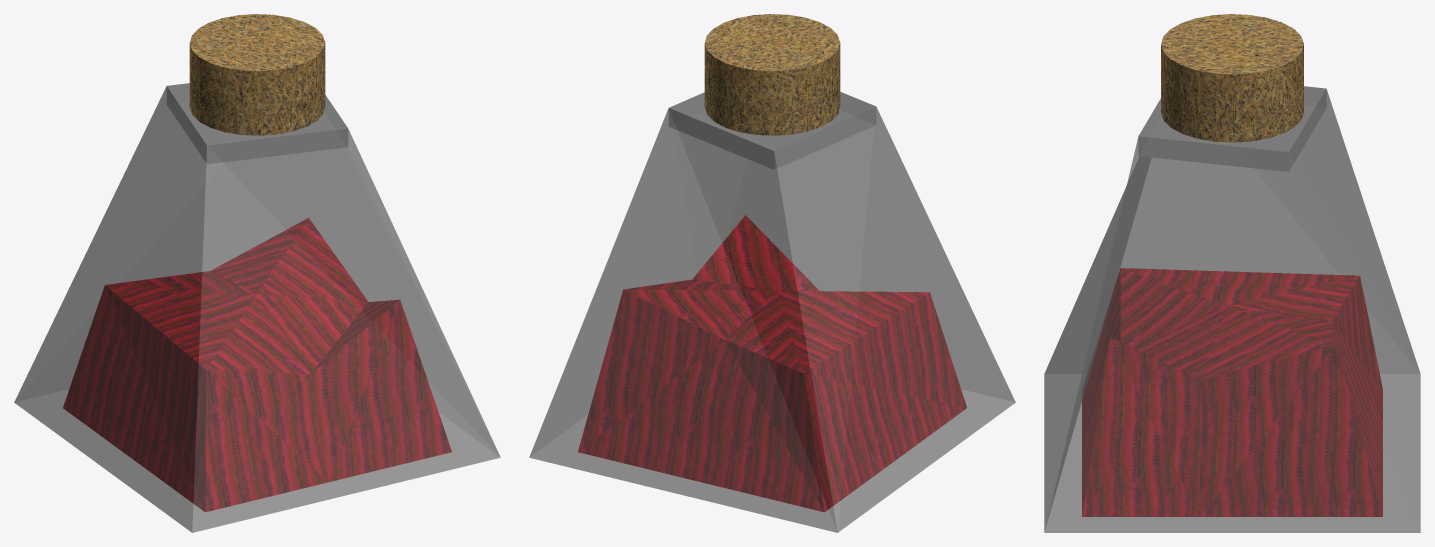
File: Potion.dae
The picture shows the model from 3 angles, left to right: view 1: azimuth 30°, elevation 25°; view 2: azimuth 150°, elevation 25°; view 3: azimuth 270°, elevation 25°; orthographic projection. The views are drawn at different scales.
Visible parts, largest first — view 1: Model; view 2: Model; view 3: Model.
Part boxes in pixels (x1,y1,x2,y2): Model: (14,14,500,532); Model: (529,14,1015,532); Model: (1044,14,1420,532).
Size of the model in its own units: 1 by 1 by 1.2.
